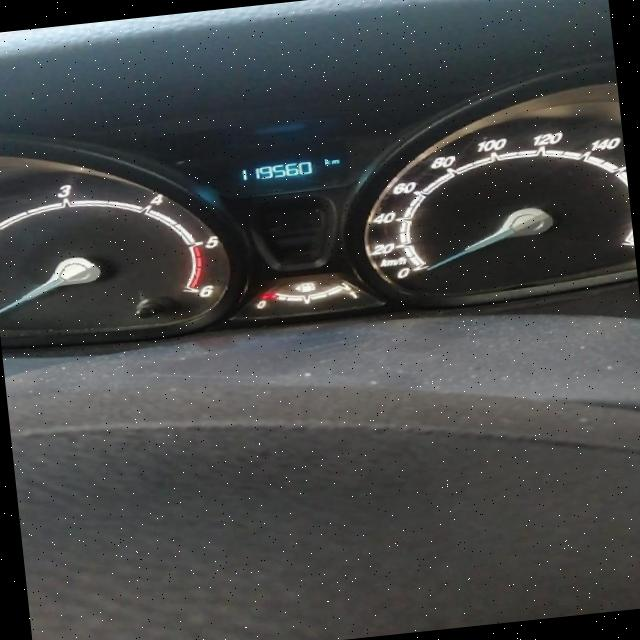odometer: (190, 145, 370, 205)
